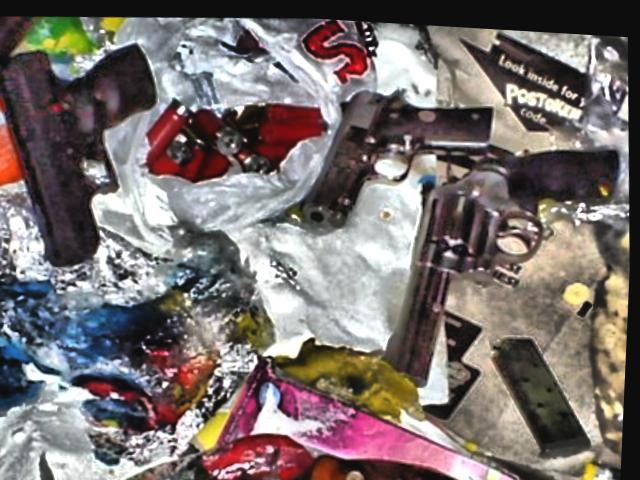pistol: (369, 124, 634, 388), (0, 33, 166, 274), (290, 72, 502, 228)
